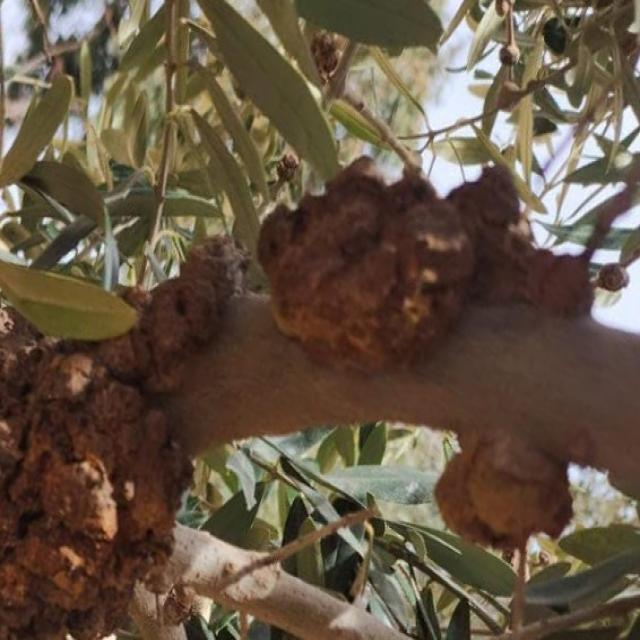Tuberculosis: (258, 157, 589, 363), (0, 317, 192, 638), (99, 236, 248, 390), (435, 440, 572, 553)
